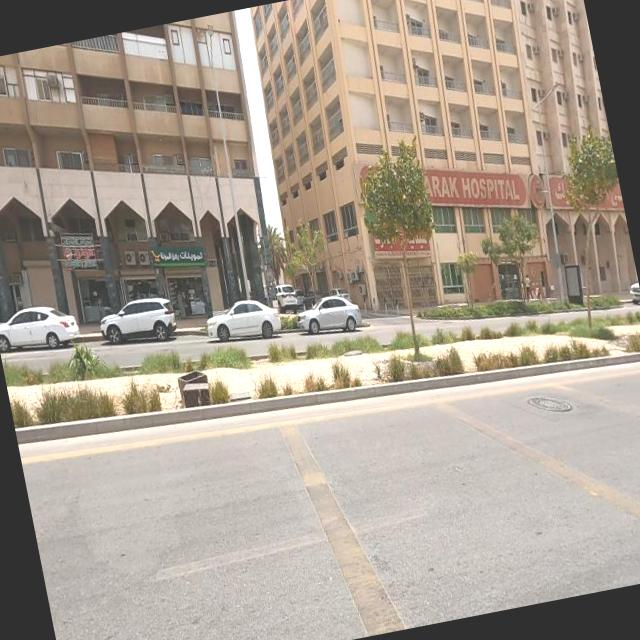debris: (348, 98, 569, 266), (502, 133, 610, 246)
